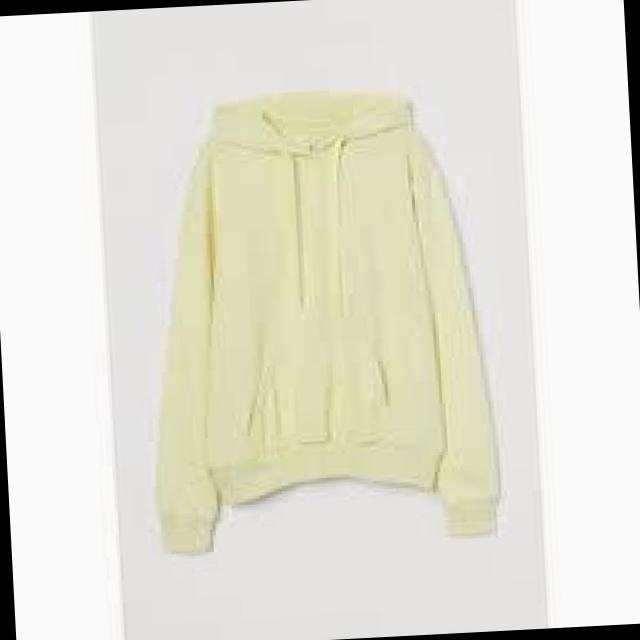sweater: (145, 90, 498, 553)
